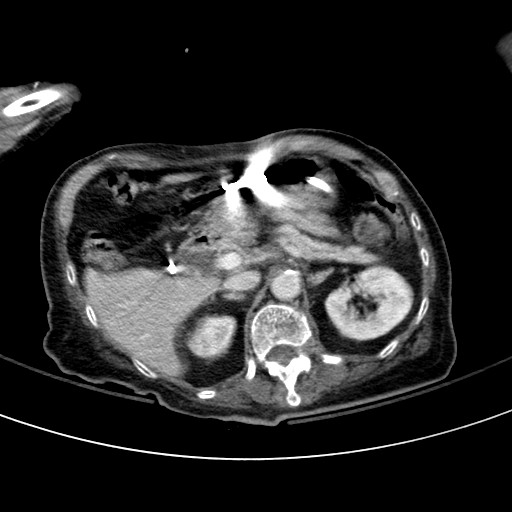clipe: (165, 257, 178, 275)
